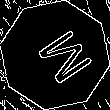M_SW: (21, 22, 89, 88)
